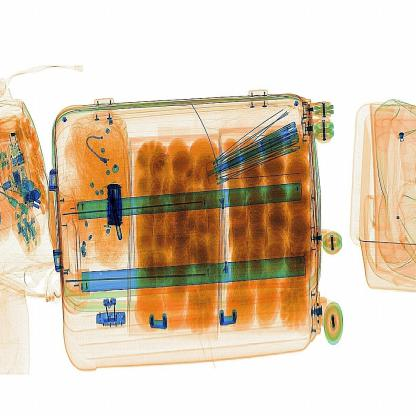scissors: (99, 176, 135, 234)
